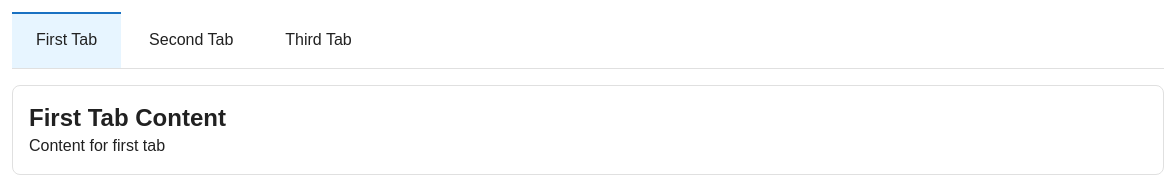
Scenario: Tabs › switches active tab when clicked
Click the button "Second Tab" at [191, 40], box [125,12,257,68]
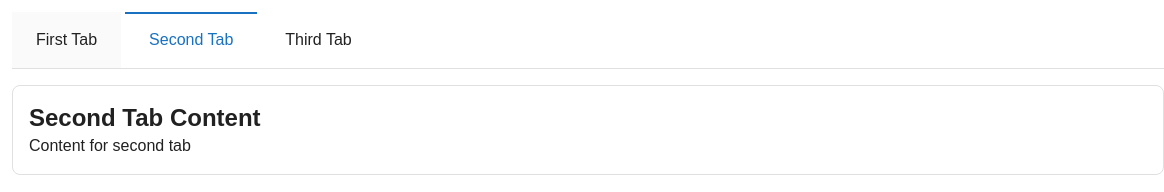
Now the heading "Second Tab Content" is shown, box [29,104,261,131]
Now the heading "First Tab Content" is gone
